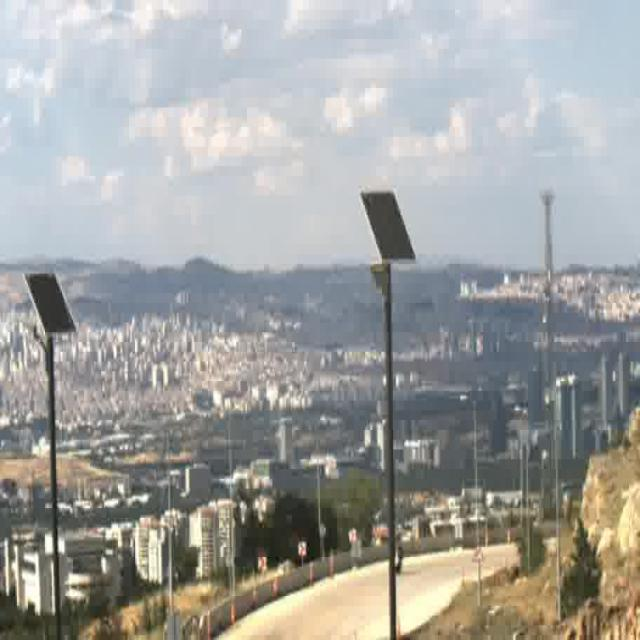Car: (394, 544, 405, 571)
